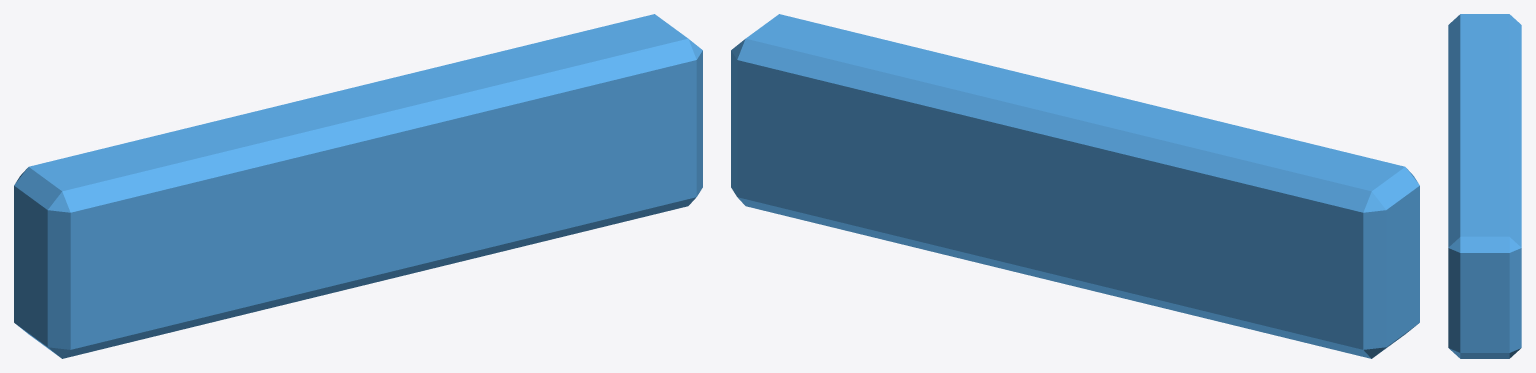
Rendered from left_shin__ankle_cuff_trim__cuff.glb.
3 renders of one model, left to right at view 1: azimuth 30°, elevation 25°; view 2: azimuth 150°, elevation 25°; view 3: azimuth 270°, elevation 25°, orthographic. The views are drawn at different scales.
Visible parts, largest first — view 1: armor_topping_left_shin_ankle_cuff_trim_cuff_v001_v001; view 2: armor_topping_left_shin_ankle_cuff_trim_cuff_v001_v001; view 3: armor_topping_left_shin_ankle_cuff_trim_cuff_v001_v001.
Part boxes in pixels (box(x1,y1,x2,y2)): armor_topping_left_shin_ankle_cuff_trim_cuff_v001_v001: box(14, 14, 702, 358); armor_topping_left_shin_ankle_cuff_trim_cuff_v001_v001: box(731, 14, 1419, 358); armor_topping_left_shin_ankle_cuff_trim_cuff_v001_v001: box(1448, 14, 1521, 358).
Size of the model in its own units: 0.09 by 0.022 by 0.012.
